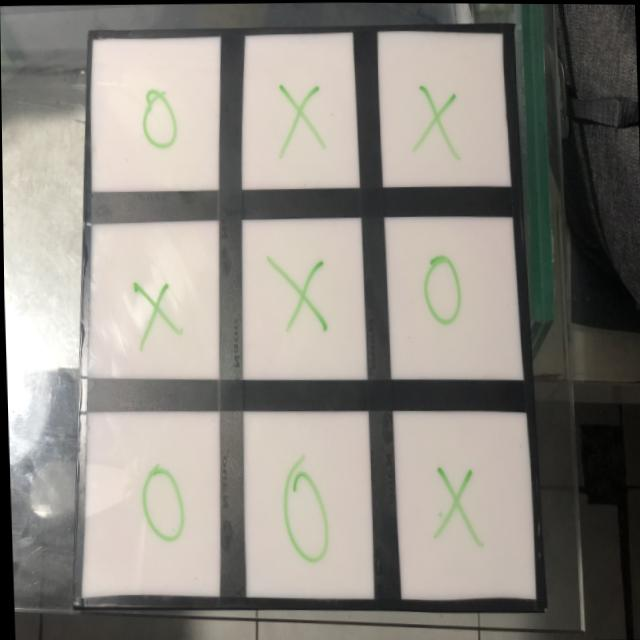o: (271, 460, 333, 567), (417, 249, 466, 331), (137, 463, 184, 548), (136, 85, 178, 153)
table: (68, 21, 545, 612)
x: (121, 273, 184, 356), (270, 74, 326, 166), (422, 462, 479, 551), (266, 253, 326, 335), (412, 83, 461, 163)
